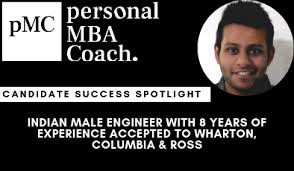Indian_Male: (222, 15, 277, 90)
